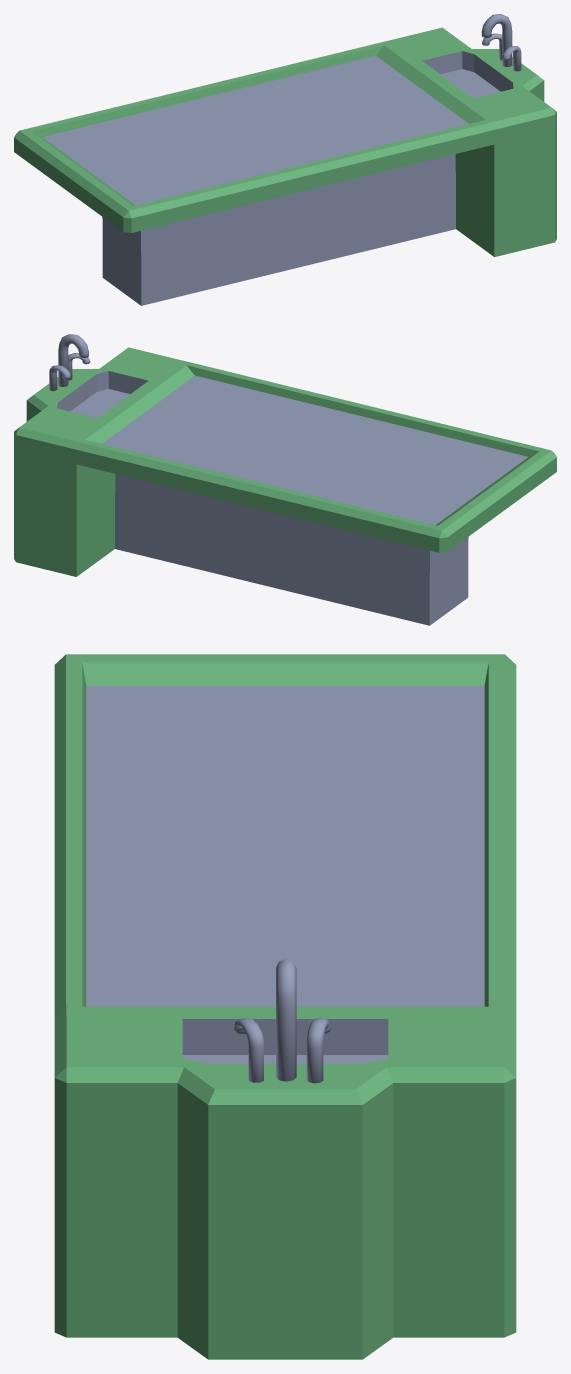
Rendered from Table.gltf.
The picture shows the model from 3 angles, top to bottom: view 1: azimuth 30°, elevation 25°; view 2: azimuth 150°, elevation 25°; view 3: azimuth 270°, elevation 25°; orthographic projection. The views are drawn at different scales.
Visible parts, largest first — view 1: Table, TableWaterTab, TableWaterTapSmall; view 2: Table, TableWaterTab, TableWaterTapSmall; view 3: Table, TableWaterTab, TableWaterTapSmall.
Boxes of the visible parts, left/top/right/bottom form: Table: left=14, top=27, right=556, bottom=305; TableWaterTab: left=481, top=14, right=512, bottom=66; TableWaterTapSmall: left=482, top=33, right=521, bottom=71; Table: left=14, top=347, right=556, bottom=625; TableWaterTab: left=58, top=334, right=88, bottom=386; TableWaterTapSmall: left=49, top=353, right=90, bottom=391; Table: left=54, top=654, right=516, bottom=1359; TableWaterTab: left=276, top=958, right=296, bottom=1081; TableWaterTapSmall: left=234, top=1017, right=330, bottom=1083.
Size of the model in its own units: 3.48 by 1.36 by 1.53.
